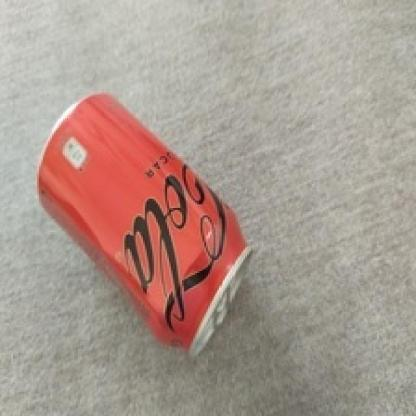Can: (4, 69, 291, 371)
